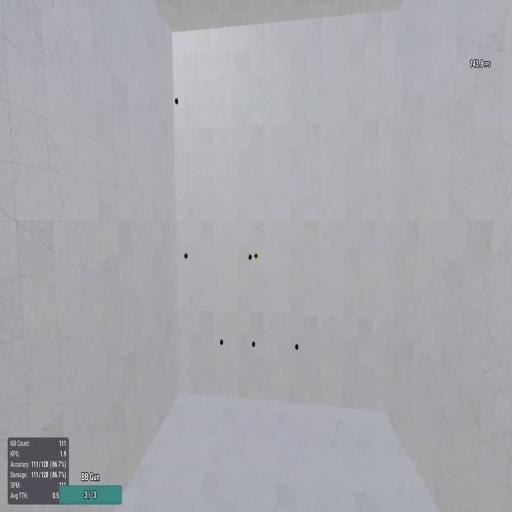Crosshair: (254, 252, 259, 260)
Target: (175, 96, 179, 106), (219, 338, 224, 346), (184, 252, 188, 260), (248, 253, 252, 261), (252, 340, 256, 348), (295, 342, 299, 350)
